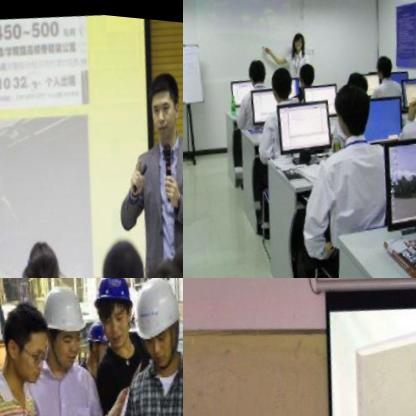head: (141, 63, 183, 138), (98, 232, 162, 278), (333, 69, 379, 132), (19, 229, 73, 278), (140, 247, 183, 278), (270, 57, 302, 98), (345, 59, 377, 96), (249, 49, 275, 84), (167, 228, 183, 278), (298, 53, 320, 83), (376, 45, 397, 73), (292, 24, 311, 48)
helmet: (28, 278, 102, 384), (119, 278, 183, 382), (86, 278, 147, 346)
